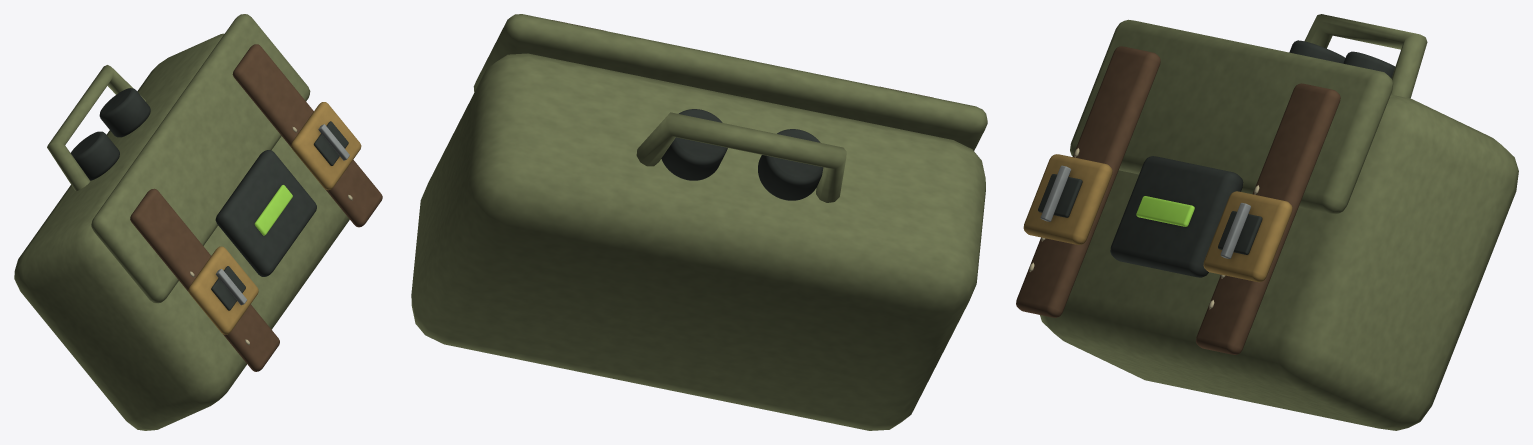
The picture shows the model from 3 angles, left to right: view 1: azimuth 30°, elevation 25°; view 2: azimuth 150°, elevation 25°; view 3: azimuth 270°, elevation 25°; orthographic projection. The views are drawn at different scales.
Visible parts, largest first — view 1: Canvas power supply pouch; view 2: Canvas power supply pouch; view 3: Canvas power supply pouch.
Part boxes in pixels (x1,y1,x2,y2): Canvas power supply pouch: (14, 14, 382, 430); Canvas power supply pouch: (411, 14, 987, 430); Canvas power supply pouch: (1016, 14, 1518, 430).
Bounding box in the file's own units: 1.4 × 1.13 × 1.22.
1 material, 1 textured.
